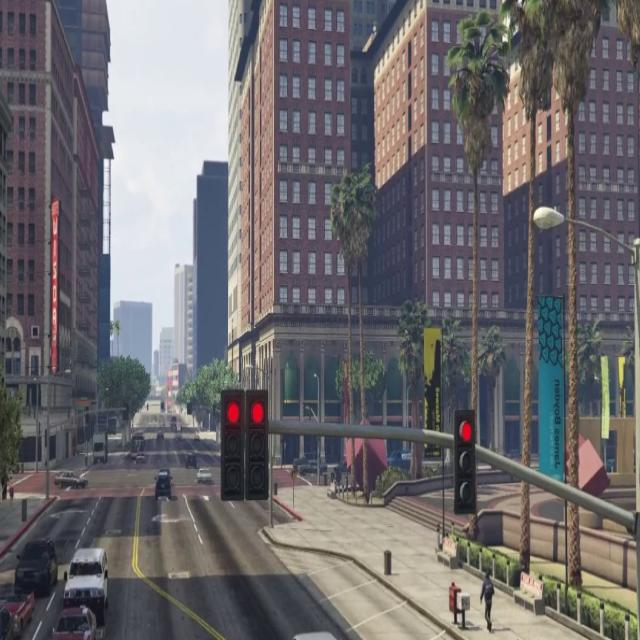Red-Signal: (216, 373, 278, 512), (443, 411, 488, 536)
